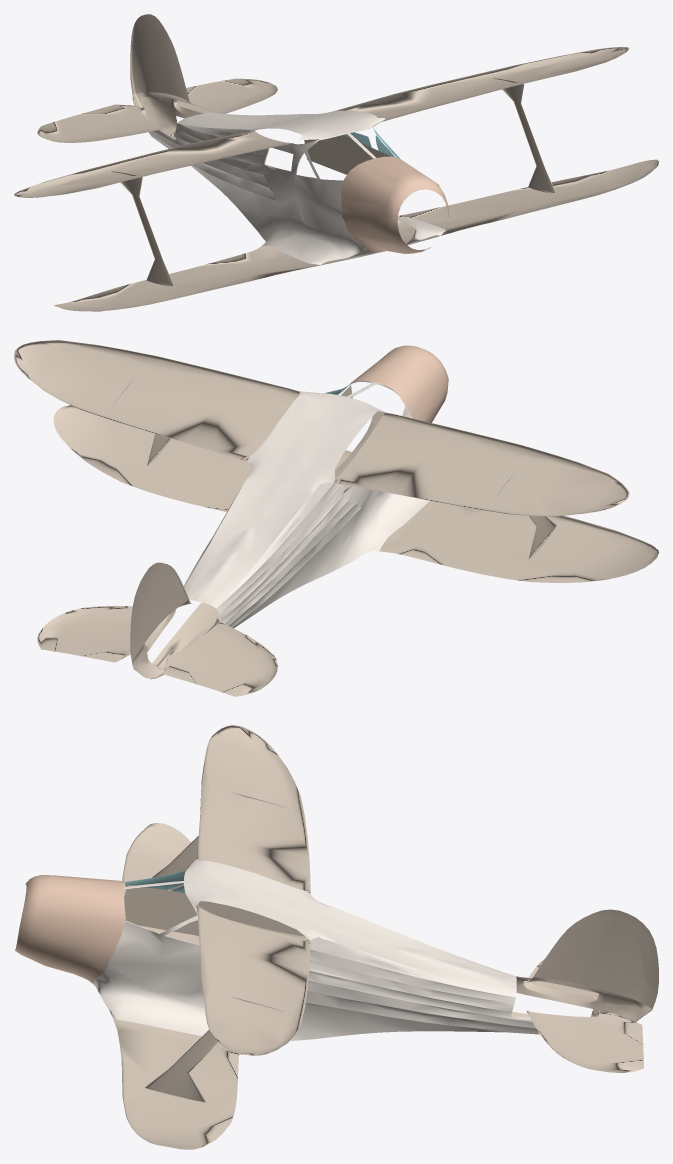
Rendered from biplane0.gltf.
3 views of the same model, one above another, from view 1: azimuth 30°, elevation 25°; view 2: azimuth 150°, elevation 25°; view 3: azimuth 270°, elevation 25° (orthographic). The views are drawn at different scales.
Parts seen in each view (by area): view 1: wing, cabin, head; view 2: wing, cabin, head; view 3: wing, cabin, head, window.
Part boxes in pixels (x1=…): wing: x1=14, y1=14, x2=658, y2=311; cabin: x1=149, y1=110, x2=446, y2=264; head: x1=341, y1=156, x2=448, y2=253; wing: x1=14, y1=340, x2=658, y2=696; cabin: x1=183, y1=380, x2=429, y2=628; head: x1=350, y1=345, x2=448, y2=422; wing: x1=101, y1=725, x2=658, y2=1149; cabin: x1=93, y1=858, x2=539, y2=1040; head: x1=15, y1=875, x2=125, y2=983; window: x1=125, y1=870, x2=185, y2=892.
Size of the model in its own units: 6434 by 1443 by 5350.
